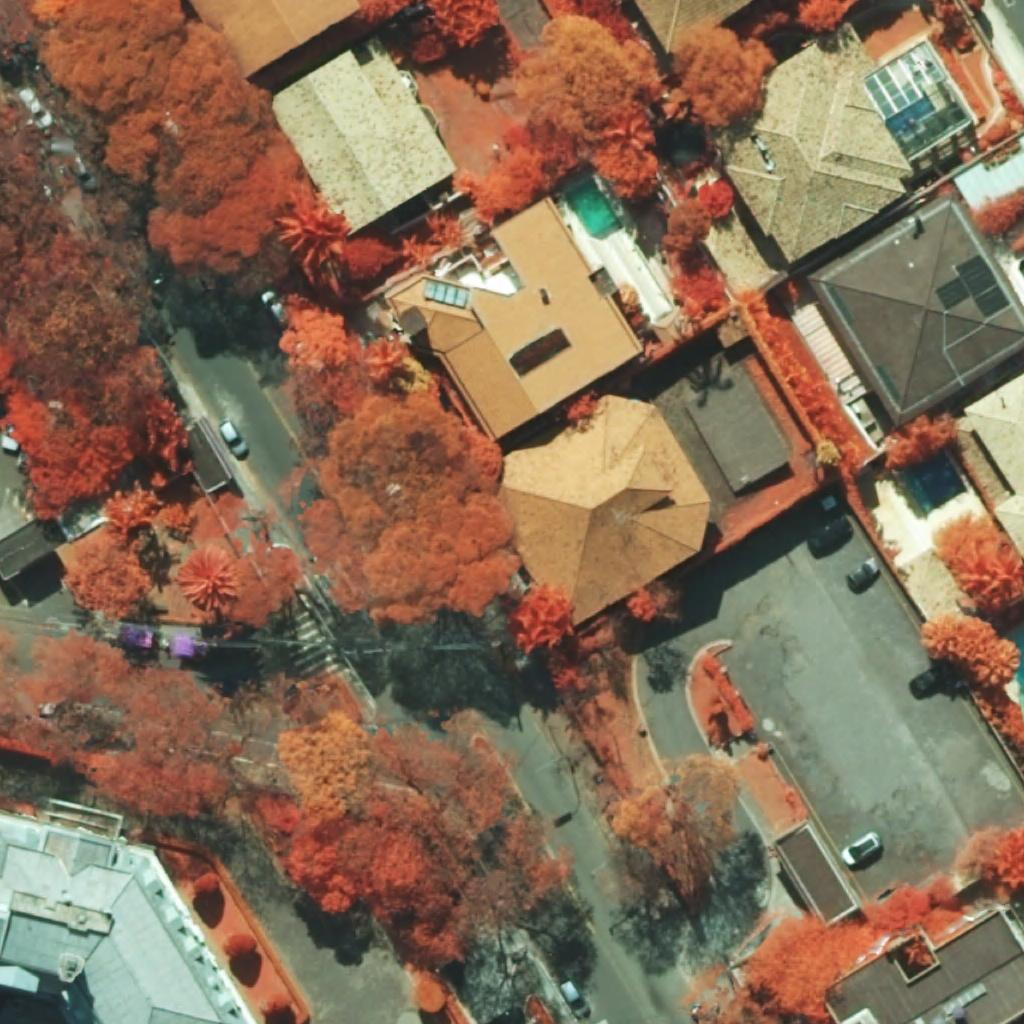pool: (564, 177, 624, 241), (885, 96, 936, 135), (1008, 627, 1024, 711)
